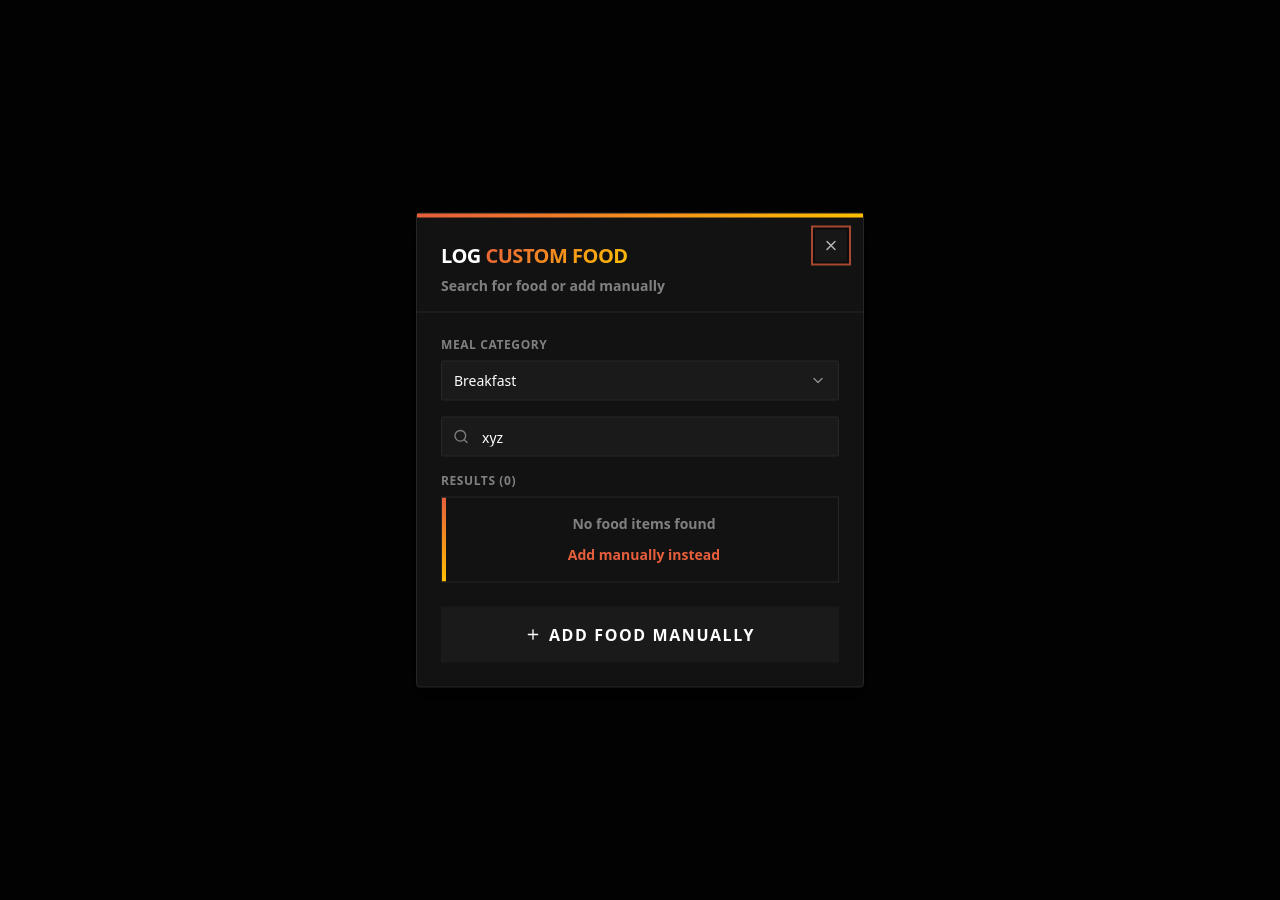
Test: FoodSearch Component › switches to manual entry from no-results 'Add manually instead' link
Note: The "Add manually instead" link appears in the no-results message
Click the button "Add manually instead".
click(644, 554)  # box [568,544,720,564]
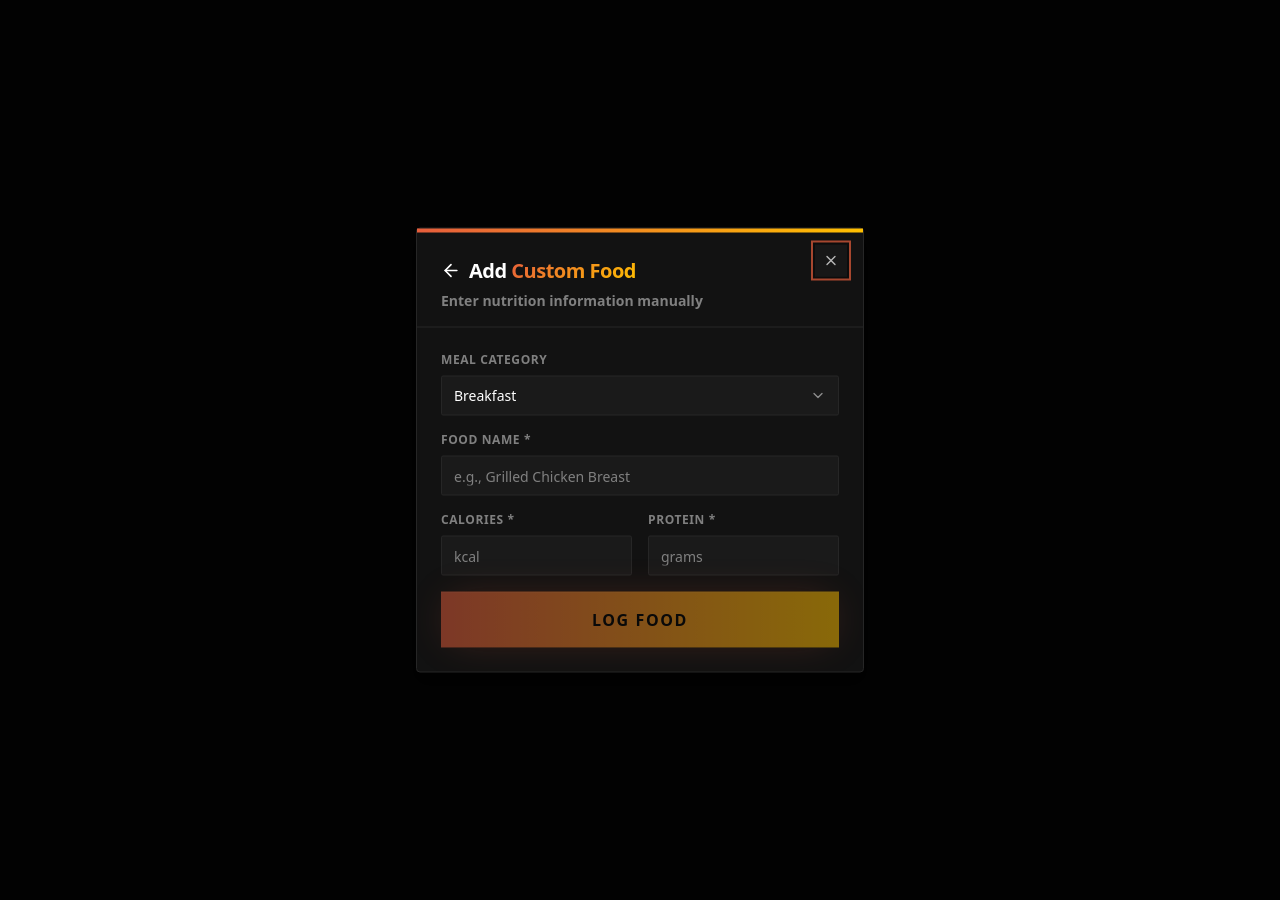
Check: the field with placeholder "e.g., Grilled Chicken Breast" is shown, box [441,456,839,496]
Check: the text "Enter nutrition information manually" is shown, box [441,290,703,310]
